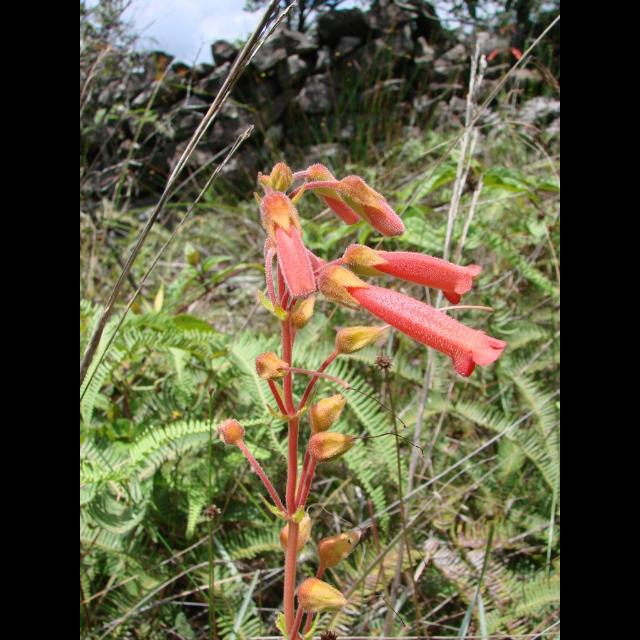Flower: (245, 156, 508, 384)
